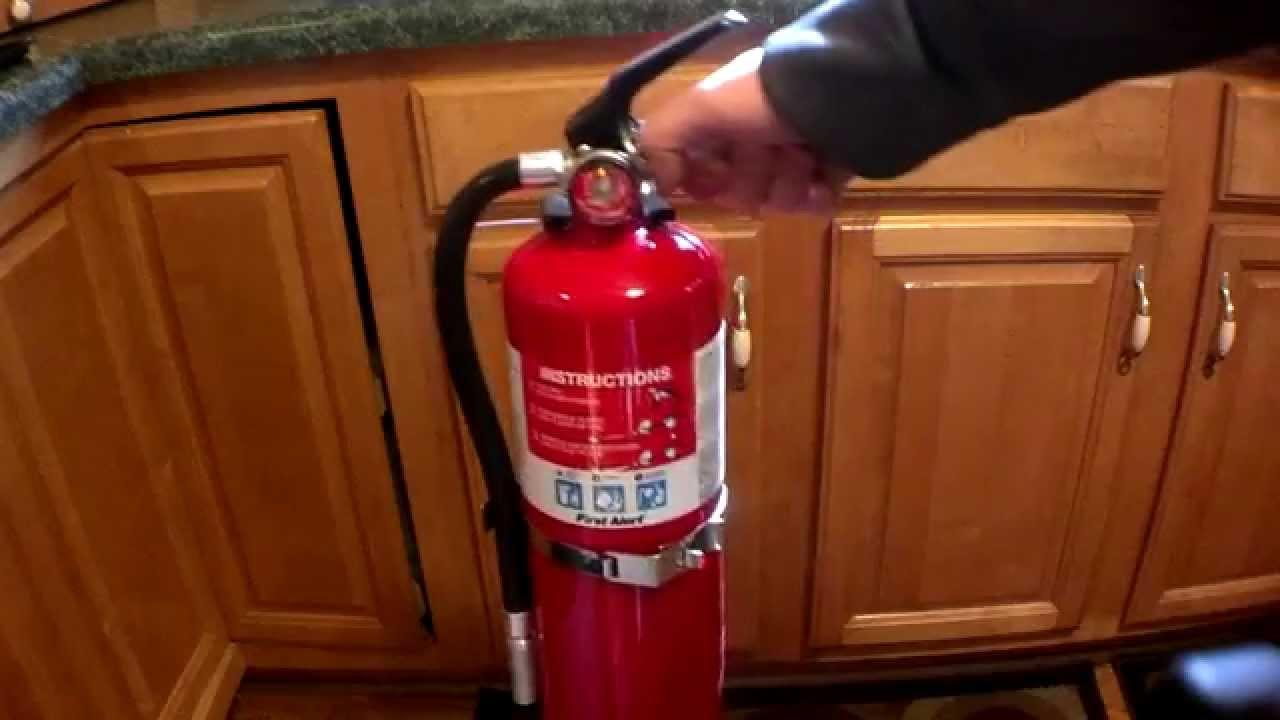Fire Extinguisher: (416, 6, 754, 720)
